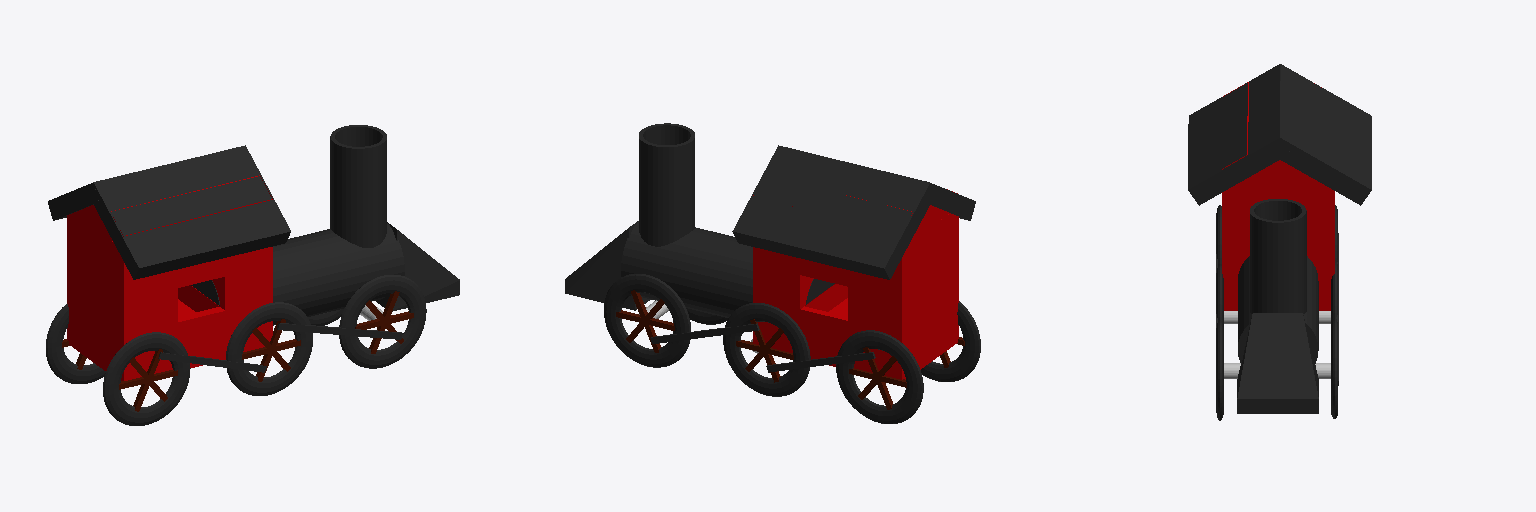
File: train.obj
3 views of the same model, side by side, from view 1: azimuth 30°, elevation 25°; view 2: azimuth 150°, elevation 25°; view 3: azimuth 270°, elevation 25° (orthographic).
Parts seen in each view (by area): view 1: Cube_Cube.001, Cube.025_Cube.026, Cylinder, Cylinder.001, Torus.004, Torus.002, Torus.003, Cube.001_Cube.028, Torus.005, Cube.026_Cube.027, Cube.028_Cube.032, Cube.027_Cube.031; view 2: Cube_Cube.001, Cube.026_Cube.027, Cylinder, Cylinder.001, Torus.005, Torus.007, Torus.006, Cube.001_Cube.028, Torus.002, Cube.025_Cube.026, Cube.002_Cube.029, Cube.003_Cube.030; view 3: Cube.025_Cube.026, Cube.026_Cube.027, Cube_Cube.001, Cube.001_Cube.028, Cylinder.001, Cylinder, Torus.004, Torus.007.
Boxes of the visible parts, box(x1,y1,x2,y2) form: Cube_Cube.001: box(67, 175, 272, 380); Cube.025_Cube.026: box(94, 145, 290, 279); Cylinder: box(191, 223, 404, 325); Cylinder.001: box(330, 125, 386, 247); Torus.004: box(339, 275, 426, 368); Torus.002: box(103, 332, 190, 425); Torus.003: box(226, 302, 312, 395); Cube.001_Cube.028: box(376, 222, 459, 311); Torus.005: box(46, 304, 105, 383); Cube.026_Cube.027: box(48, 147, 236, 220); Cube.028_Cube.032: box(277, 323, 402, 339); Cube.027_Cube.031: box(158, 352, 266, 372); Cube_Cube.001: box(753, 189, 958, 379); Cube.026_Cube.027: box(732, 145, 935, 279); Cylinder: box(621, 221, 834, 317); Cylinder.001: box(639, 123, 694, 246); Torus.005: box(836, 330, 923, 423); Torus.007: box(604, 274, 690, 367); Torus.006: box(723, 303, 810, 396); Cube.001_Cube.028: box(565, 221, 650, 310); Torus.002: box(921, 301, 980, 381); Cube.025_Cube.026: box(787, 147, 975, 220); Cube.002_Cube.029: box(650, 323, 759, 343); Cube.003_Cube.030: box(766, 352, 875, 372); Cube.025_Cube.026: box(1188, 64, 1290, 205); Cube.026_Cube.027: box(1280, 64, 1371, 205); Cube_Cube.001: box(1222, 82, 1334, 310); Cube.001_Cube.028: box(1237, 313, 1318, 413); Cylinder.001: box(1250, 199, 1306, 313); Cylinder: box(1238, 256, 1318, 365); Torus.004: box(1216, 320, 1223, 420); Torus.007: box(1331, 318, 1337, 418).
Bounding box in the file's own units: 10.44 × 6.17 × 4.54.